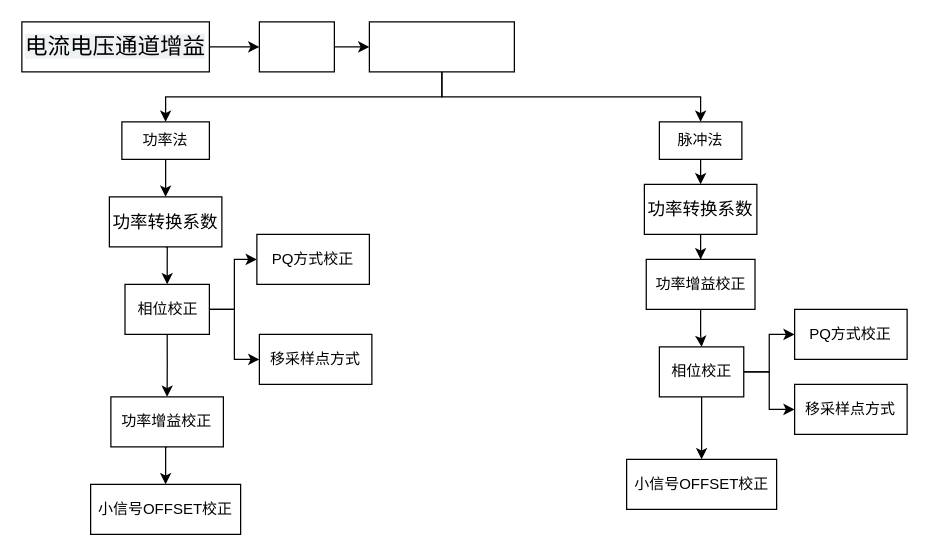
Some shapes in this 930 by 556 pixel diagram are drawn without their labels. Here are the shapes that lost their labels. From the top down, the box of each, then its label:
(258, 21, 334, 72): HFConst
(368, 21, 514, 72): 电压电流转换系数
